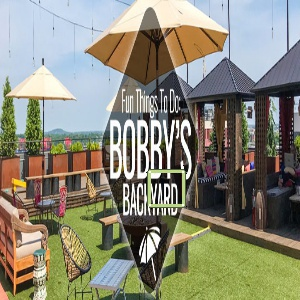square: (145, 167, 189, 209)
